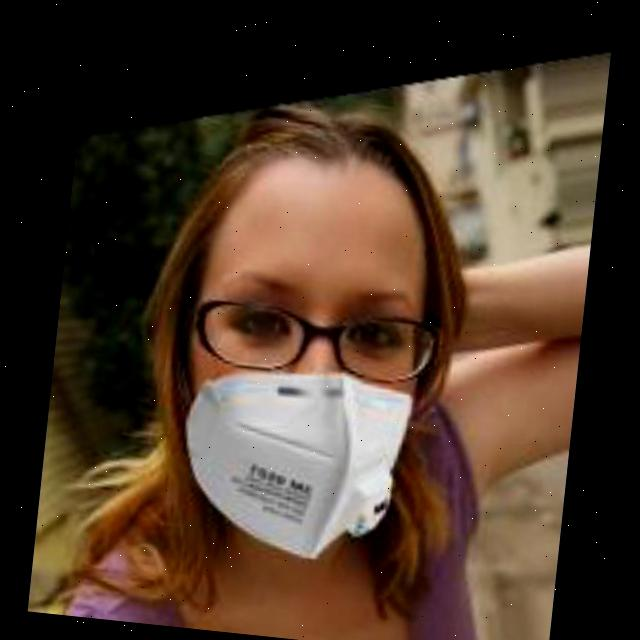suspicion: (89, 102, 526, 529)
